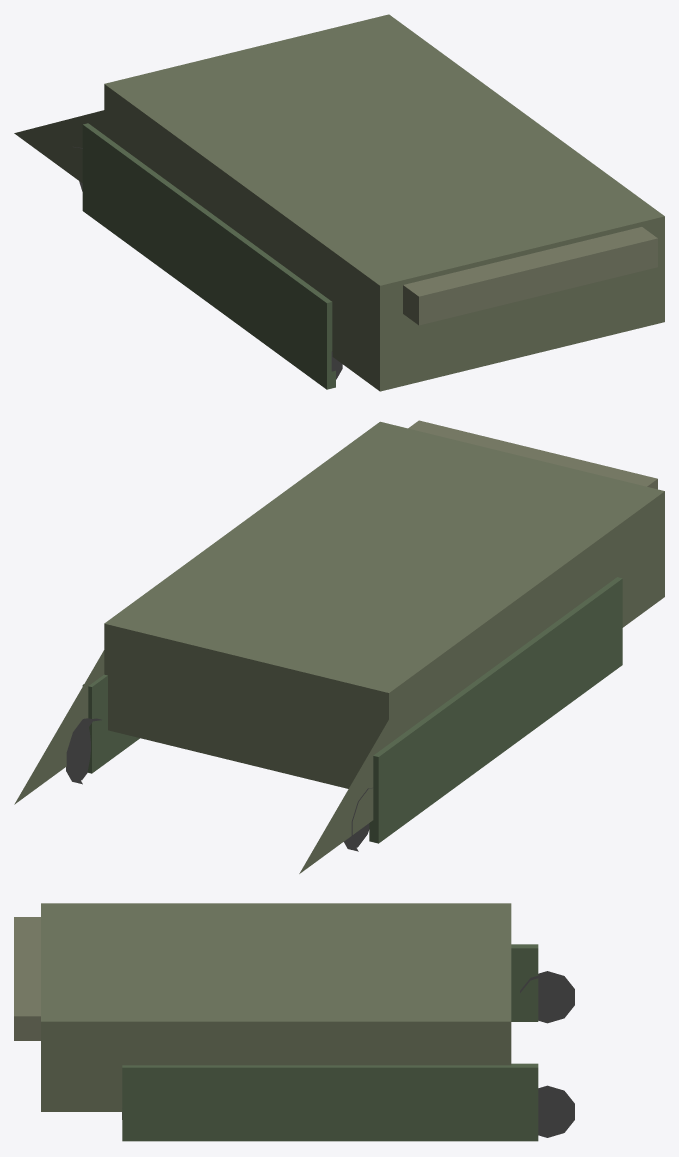
The model's file is v_bmp2.glb.
3 views of the same model, one above another, from view 1: azimuth 30°, elevation 25°; view 2: azimuth 150°, elevation 25°; view 3: azimuth 270°, elevation 25° (orthographic). The views are drawn at different scales.
Visible parts, largest first — view 1: body; view 2: body; view 3: body.
Part boxes in pixels (x1,y1,x2,y2): body: [14, 14, 664, 391]; body: [14, 420, 664, 873]; body: [14, 903, 574, 1141].
Size of the model in its own units: 3.22 by 1.47 by 7.2.
